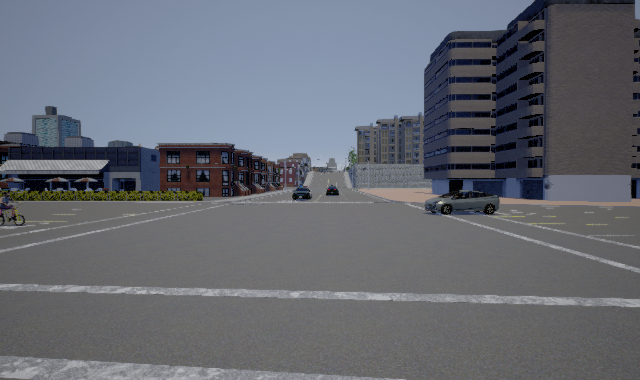bike: (1, 193, 26, 227)
vehicle: (424, 190, 500, 215), (292, 185, 312, 200), (325, 184, 339, 196)
